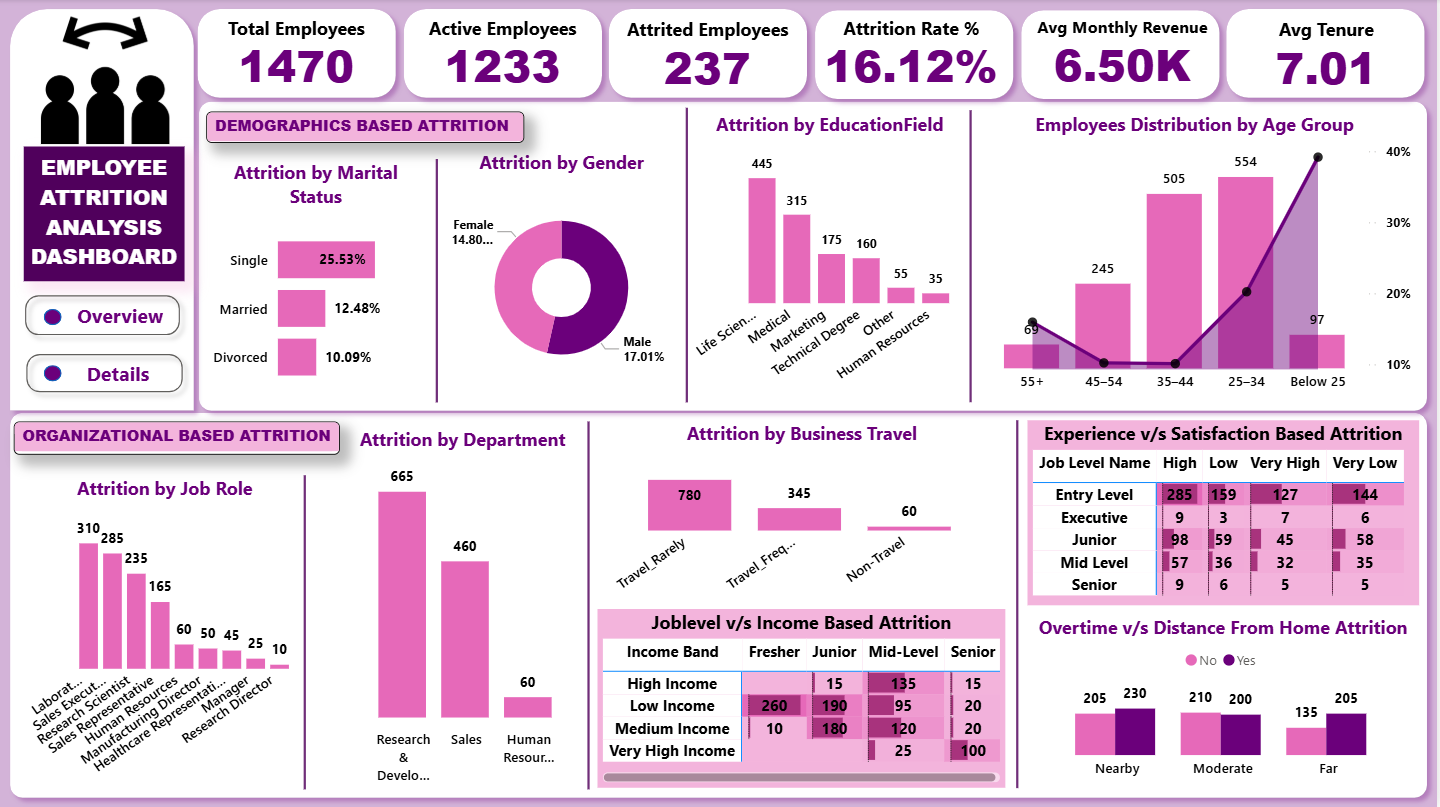

This screenshot's page, from the dashboard's own definition file:
{"tool":"powerbi","page":{"name":"Overview","canvas":[1280,720],"ordinal":0},"visuals":[{"type":"shape","box":[350.2,0,194.4,96.9],"z":0,"group":"g1"},{"type":"shape","box":[0,359.5,1279.8,360.7],"z":0},{"type":"shape","box":[533.5,0,194.4,96.9],"z":1000,"group":"g1"},{"type":"shape","box":[168.1,82.2,1111.7,293.3],"z":1000},{"type":"shape","box":[0,0,181.6,375.5],"z":2000},{"type":"shape","box":[716.8,1.2,194.4,96.9],"z":2000,"group":"g1"},{"type":"shape","box":[900.1,1.2,194.4,96.9],"z":3000,"group":"g1"},{"type":"donutChart","title":"Attrition by Gender","fields":{"Category":["hr_attrition_cleaned_data.gender"],"Y":["new_measures.Attrition Rate %"]},"box":[401.2,133.7,198.8,225.8],"z":3000},{"type":"group","id":"g1","title":"Group 1","box":[166.9,0,1111.7,98.2],"z":4000},{"type":"shape","box":[1083.4,0,194.4,96.9],"z":4000,"group":"g1"},{"type":"shape","box":[166.9,0,194.4,96.9],"z":5000,"group":"g1"},{"type":"lineStackedColumnComboChart","title":"Employees Distribution by Age Group","fields":{"Category":["hr_attrition_cleaned_data.Age Group"],"Y":["new_measures.Total Employees"],"Y2":["new_measures.Attrition Rate %"]},"box":[863.8,100.6,400,258.9],"z":5000},{"type":"card","title":"Total Employees","fields":{"Values":["new_measures.Total Employees"]},"box":[180.6,14,167.2,67.7],"z":6000,"group":"g1"},{"type":"clusteredColumnChart","title":"Attrition by EducationField","fields":{"Category":["hr_attrition_cleaned_data.educationfield"],"Y":["new_measures.Attrition Count"]},"box":[614.7,100.6,249.1,258.9],"z":6000},{"type":"card","title":"Active Employees","fields":{"Values":["new_measures.Active Employees"]},"box":[363.7,14,167.2,67.7],"z":7000,"group":"g1"},{"type":"clusteredColumnChart","title":"Attrition by Department","fields":{"Category":["hr_attrition_cleaned_data.department"],"Y":["new_measures.Attrition Count"]},"box":[303.1,380.4,218.4,326.4],"z":7000},{"type":"card","title":"Attrited Employees","fields":{"Values":["new_measures.Attrited Employees"]},"box":[546.8,15.3,167.2,67.7],"z":8000,"group":"g1"},{"type":"barChart","title":"Attrition by Marital Status","fields":{"Category":["hr_attrition_cleaned_data.maritalstatus"],"Y":["new_measures.Attrition Rate %"]},"box":[184.1,142.3,195.1,217.2],"z":8000},{"type":"card","title":"Attrition Rate %","fields":{"Values":["new_measures.Attrition Rate %"]},"box":[728.5,14,167.2,67.7],"z":9000,"group":"g1"},{"type":"clusteredColumnChart","title":"Attrition by Job Role","fields":{"Category":["hr_attrition_cleaned_data.jobrole"],"Y":["new_measures.Attrition Count"]},"box":[22.1,424.5,249.1,278.5],"z":9000},{"type":"card","title":"Avg Monthly Revenue","fields":{"Values":["new_measures.Avg Monthly Income"]},"box":[915.9,14,167.2,67.7],"z":10000,"group":"g1"},{"type":"pivotTable","title":"Experience v/s Satisfaction Based Attrition","fields":{"Columns":["hr_attrition_cleaned_data.satisfactionlevel"],"Values":["new_measures.Attrition Count"],"Rows":["hr_attrition_cleaned_data.Job Level Name"]},"box":[915.3,375.5,348.5,164.4],"z":10000},{"type":"card","title":"Avg Tenure","fields":{"Values":["new_measures.Avg Tenure"]},"box":[1097.6,15.3,167.2,67.7],"z":11000,"group":"g1"},{"type":"clusteredColumnChart","title":"Overtime v/s Distance From Home Attrition","fields":{"Category":["hr_attrition_cleaned_data.Distance Category"],"Y":["new_measures.Attrition Count"],"Series":["hr_attrition_cleaned_data.overtime"]},"box":[915.3,547.2,348.5,155.8],"z":11000},{"type":"clusteredColumnChart","title":"Attrition by Business Travel","fields":{"Category":["hr_attrition_cleaned_data.businesstravel"],"Y":["new_measures.Attrition Count"]},"box":[533.7,375.5,362,164.4],"z":12000},{"type":"pivotTable","title":"Joblevel v/s Income Based Attrition","fields":{"Values":["new_measures.Attrition Count"],"Columns":["hr_attrition_cleaned_data.Experience Level"],"Rows":["hr_attrition_cleaned_data.Income Band"]},"box":[532.5,543.6,363.2,159.5],"z":13000},{"type":"textbox","title":"DEMOGRAPHICS BASED ATTRITION","box":[184.1,100.6,283.4,28.2],"z":14000},{"type":"textbox","title":"ORGANIZATIONAL BASED ATTRITION","box":[12.3,376.7,290.8,29.4],"z":15000},{"type":"textbox","box":[21.6,131.3,142.8,119.7],"z":16000},{"type":"actionButton","box":[13,255.4,155.8,53.4],"z":17000},{"type":"shape","box":[39,275.6,15.9,14.4],"z":18000},{"type":"actionButton","box":[14.4,307.3,157.3,51.9],"z":19000},{"type":"shape","box":[39,326.1,15.9,14.4],"z":20000},{"type":"shape","box":[377.9,142.3,23.3,217.2],"z":21000},{"type":"shape","box":[600,96.9,23.3,262.6],"z":22000},{"type":"shape","box":[852.8,99.4,23.3,260.1],"z":23000},{"type":"shape","box":[895.7,375.5,19.6,327.6],"z":24000},{"type":"shape","box":[514.1,376.7,19.6,327.6],"z":25000},{"type":"shape","box":[261.4,424.5,19.6,279.8],"z":26000},{"type":"image","box":[30.3,15.9,127,114],"z":27000}]}

Visuals, with their boxes in screenshot pixels (x1, y1, x2, y2), scaled from the page's 1280x720 canvas onto the 1440x807 screenshot:
shape: (394,0,613,109)
shape: (0,403,1439,806)
shape: (600,0,819,109)
shape: (189,92,1439,421)
shape: (0,0,204,421)
shape: (806,1,1025,110)
shape: (1013,1,1231,110)
"Attrition by Gender" donutChart: (451,150,675,403)
"Group 1" group: (188,0,1438,110)
shape: (1219,0,1438,109)
shape: (188,0,406,109)
"Employees Distribution by Age Group" lineStackedColumnComboChart: (972,113,1422,403)
"Total Employees" card: (203,16,391,92)
"Attrition by EducationField" clusteredColumnChart: (692,113,972,403)
"Active Employees" card: (409,16,597,92)
"Attrition by Department" clusteredColumnChart: (341,426,587,792)
"Attrited Employees" card: (615,17,803,93)
"Attrition by Marital Status" barChart: (207,159,427,403)
"Attrition Rate %" card: (820,16,1008,92)
"Attrition by Job Role" clusteredColumnChart: (25,476,305,788)
"Avg Monthly Revenue" card: (1030,16,1218,92)
"Experience v/s Satisfaction Based Attrition" pivotTable: (1030,421,1422,605)
"Avg Tenure" card: (1235,17,1423,93)
"Overtime v/s Distance From Home Attrition" clusteredColumnChart: (1030,613,1422,788)
"Attrition by Business Travel" clusteredColumnChart: (600,421,1008,605)
"Joblevel v/s Income Based Attrition" pivotTable: (599,609,1008,788)
"DEMOGRAPHICS BASED ATTRITION" textbox: (207,113,526,144)
"ORGANIZATIONAL BASED ATTRITION" textbox: (14,422,341,455)
textbox: (24,147,185,281)
actionButton: (15,286,190,346)
shape: (44,309,62,325)
actionButton: (16,344,193,403)
shape: (44,366,62,382)
shape: (425,159,451,403)
shape: (675,109,701,403)
shape: (959,111,986,403)
shape: (1008,421,1030,788)
shape: (578,422,600,789)
shape: (294,476,316,789)
image: (34,18,177,146)
